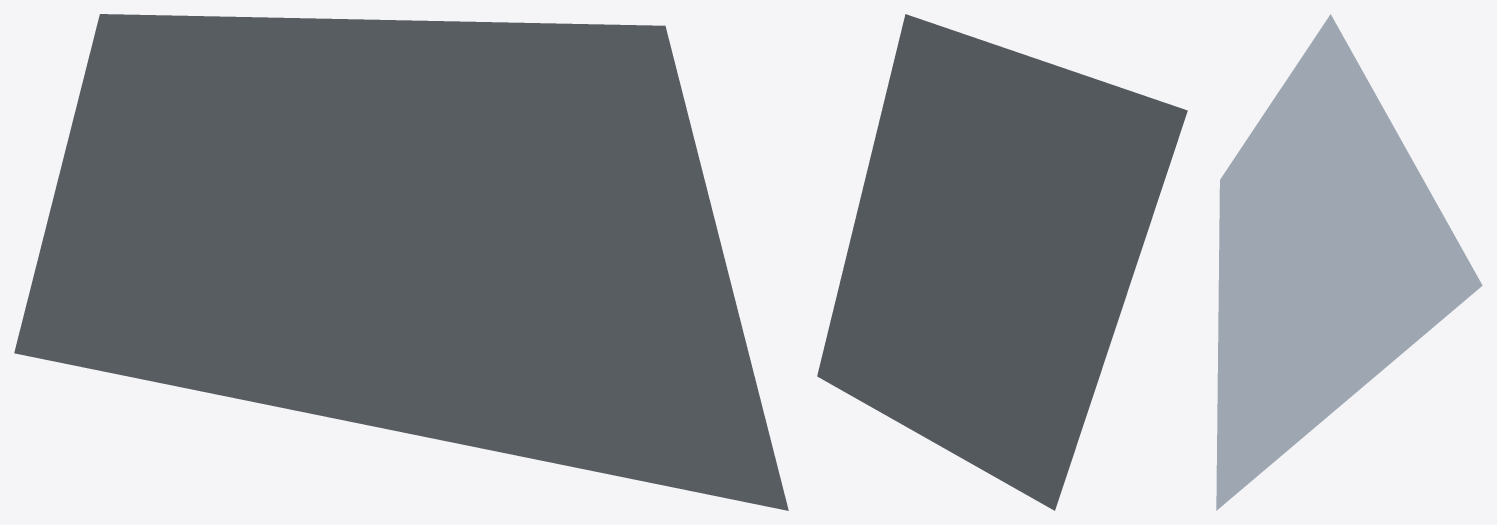
Rendered from costoclavicular-ligament-r.glb.
3 views of the same model, side by side, from view 1: azimuth 30°, elevation 25°; view 2: azimuth 150°, elevation 25°; view 3: azimuth 270°, elevation 25° (orthographic). The views are drawn at different scales.
Visible parts, largest first — view 1: Costoclavicular ligament.r; view 2: Costoclavicular ligament.r; view 3: Costoclavicular ligament.r.
Boxes of the visible parts, x1,y1,x2,y2 form: Costoclavicular ligament.r: (14, 14, 788, 510); Costoclavicular ligament.r: (817, 14, 1187, 510); Costoclavicular ligament.r: (1216, 14, 1482, 510).
Bounding box in the file's own units: 0.0118 × 0.0108 × 0.00794.
